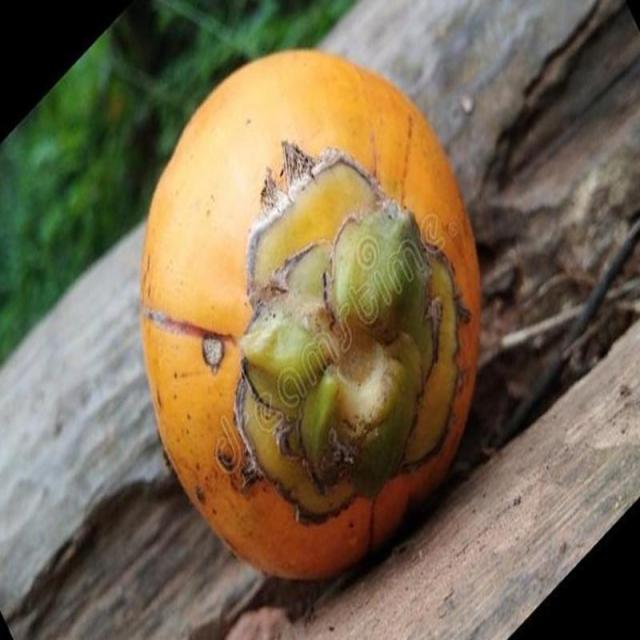good: (137, 50, 487, 589)
